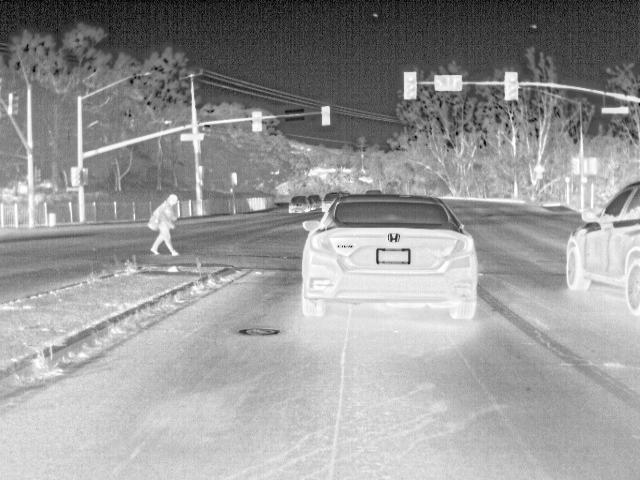car: (300, 196, 479, 322), (565, 183, 639, 314), (286, 193, 308, 212), (321, 192, 341, 209), (363, 188, 384, 198), (308, 193, 322, 208)
person: (149, 191, 183, 258)
